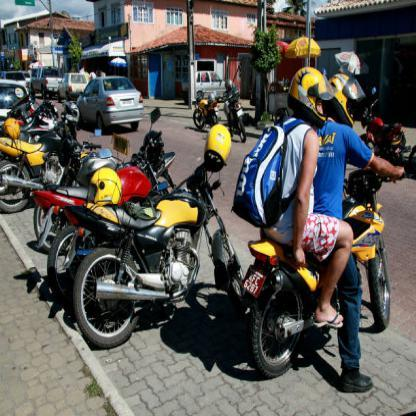Motorcycle: (250, 163, 397, 378)
